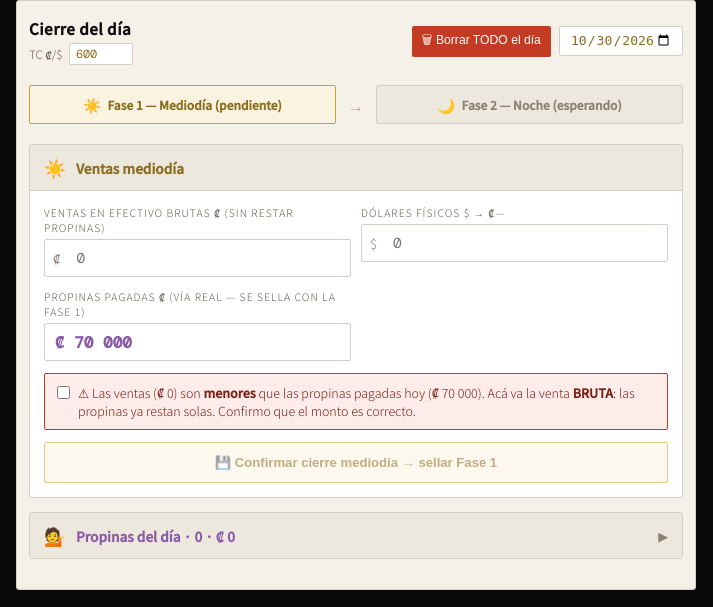
Test: CashCierre post-corte — aviso de venta tecleada NETA › con la venta BRUTA (mayor que las propinas) no aparece ningún aviso
The image size is (713, 607).
Expected: the text "Ventas en efectivo BRUTAS ₡ (sin restar propinas)" is shown, [44,205,294,235]
Step 1. Type "300000" into the 2nd number field with placeholder "0" → (209, 258), box [68,249,350,267]
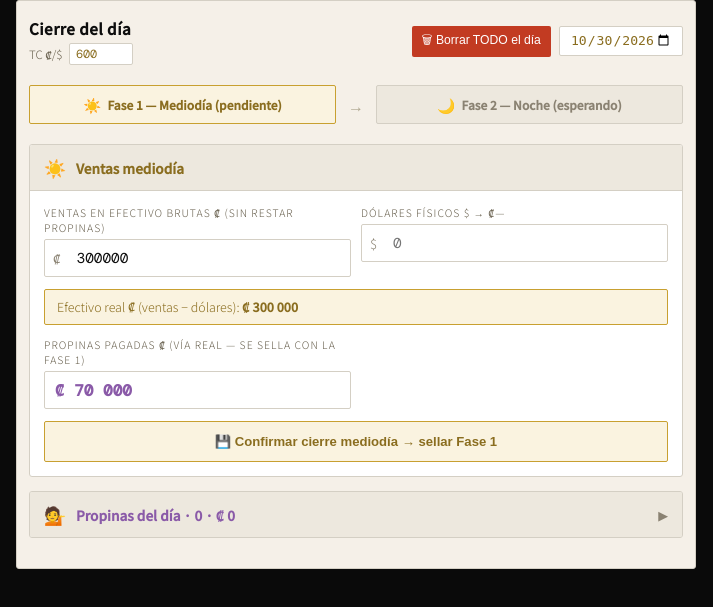
Expected: the label with test id "aviso-venta-neta-m" is gone
Expected: the button "💾 Confirmar cierre mediodía → sellar Fase 1" is enabled, [44,421,668,462]
